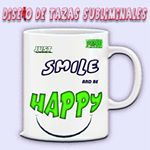cups: (14, 26, 145, 145)
